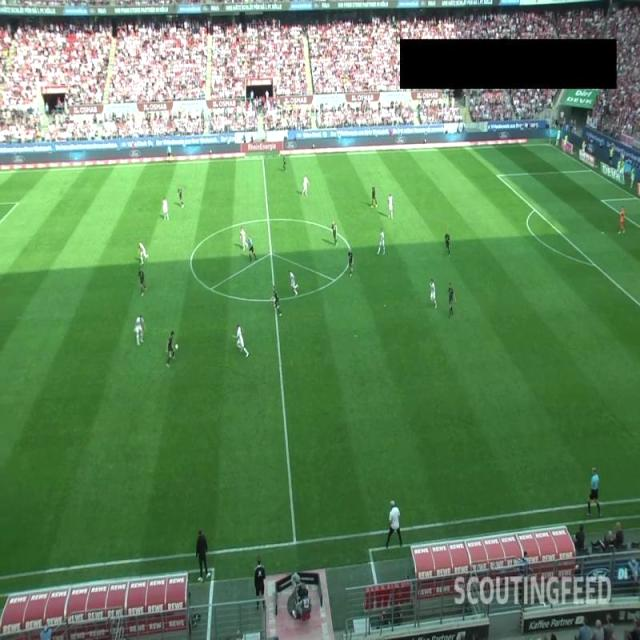bigarea_top_inner: (490, 170, 504, 181), (12, 196, 22, 207)
bigarea_top_outter: (586, 164, 597, 176)
bottom_arc_area_intersection: (588, 258, 599, 269)
corner: (544, 138, 555, 150)
halfcircle_bottom: (270, 294, 280, 306)
halfcircle_top: (263, 213, 274, 224)
midline_bottom_intersection: (288, 536, 302, 549)
midline_top_intersection: (256, 152, 268, 162)
smallarea_top_inner: (596, 194, 607, 205)
smallarea_top_outter: (631, 192, 640, 204)
top_arc_area_intersection: (528, 202, 539, 214)
